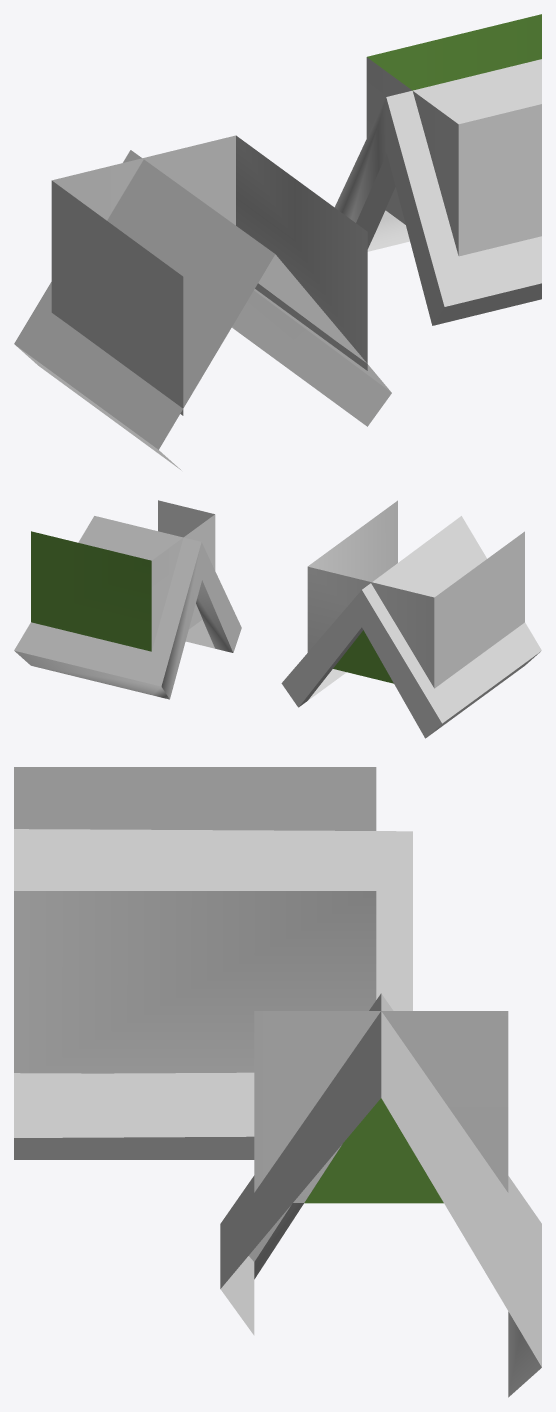
Rendered from Plantes.fbx.
3 renders of one model, top to bottom at view 1: azimuth 30°, elevation 25°; view 2: azimuth 150°, elevation 25°; view 3: azimuth 270°, elevation 25°, orthographic. The views are drawn at different scales.
Parts seen in each view (by area): view 1: PlantaGran, PlantaGranTop, PlantaTop, Planta; view 2: PlantaGranTop, PlantaGran, PlantaTop, Planta; view 3: PlantaGran, PlantaGranTop, PlantaTop, Planta.
Part boxes in pixels (x1,y1,x2,y2): PlantaGran: [51, 135, 367, 415]; PlantaGranTop: [14, 150, 391, 470]; PlantaTop: [334, 59, 541, 325]; Planta: [366, 14, 541, 256]; PlantaGranTop: [281, 516, 541, 738]; PlantaGran: [307, 500, 524, 688]; PlantaTop: [14, 516, 241, 699]; Planta: [31, 500, 215, 651]; PlantaGran: [14, 767, 376, 1073]; PlantaGranTop: [14, 829, 412, 1159]; PlantaTop: [220, 993, 541, 1397]; Planta: [254, 1011, 508, 1202].
Size of the model in its own units: 108 by 35 by 62.26.
